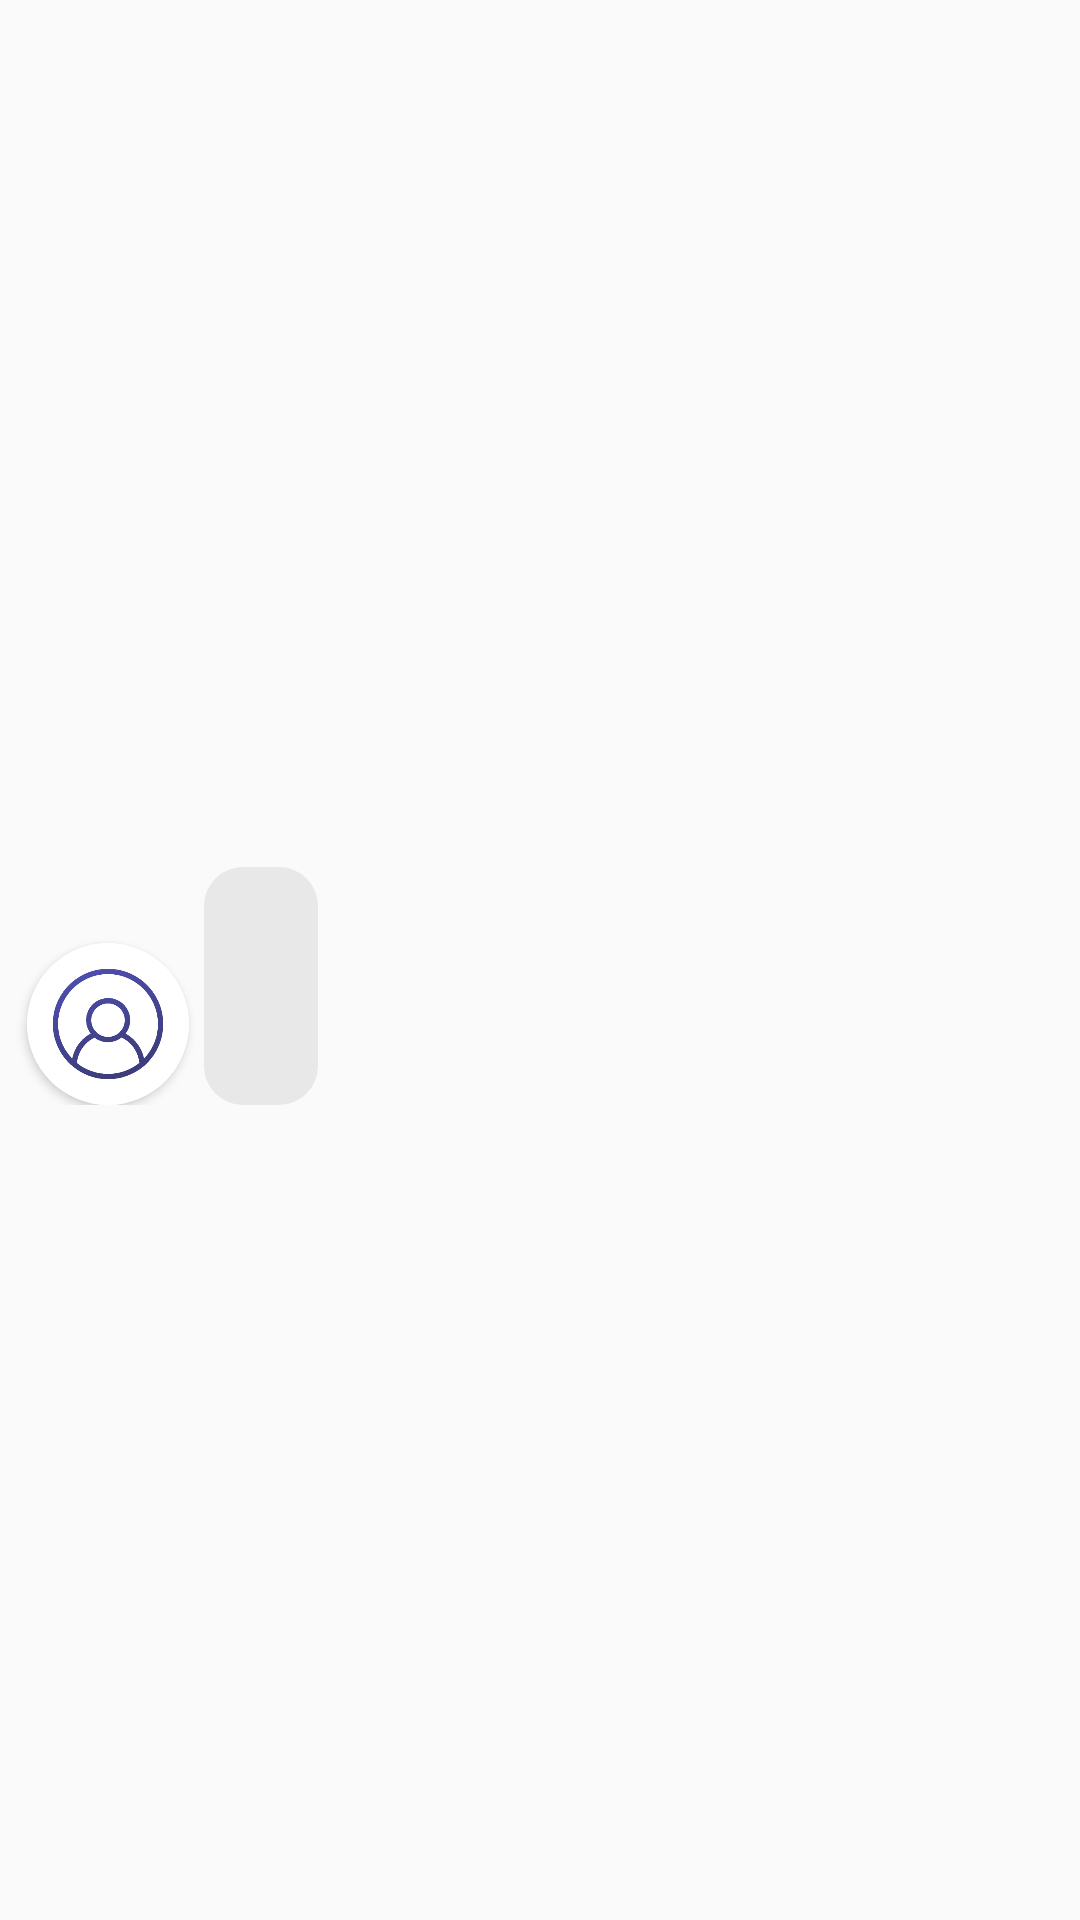

Icons on this 1080px x 1920px Android screen, each with the point to tap as point (x, y):
profile: point (98, 1037)
